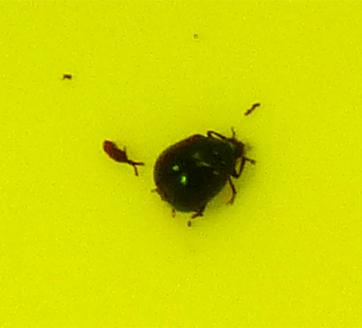Coleoptera: (151, 128, 257, 228), (100, 138, 145, 176)
